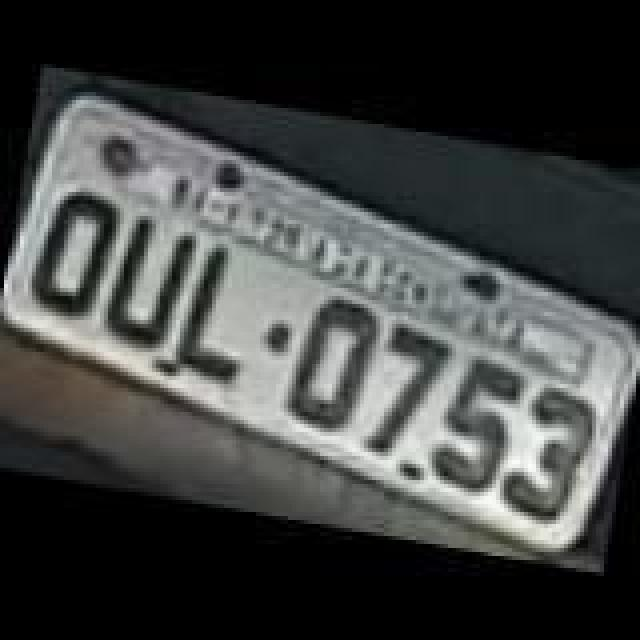3: (494, 384, 594, 528)
5: (418, 346, 526, 494)
7: (362, 320, 454, 464)
L: (166, 234, 266, 390)
O: (274, 288, 382, 440), (24, 184, 120, 328)
U: (96, 206, 200, 354)
